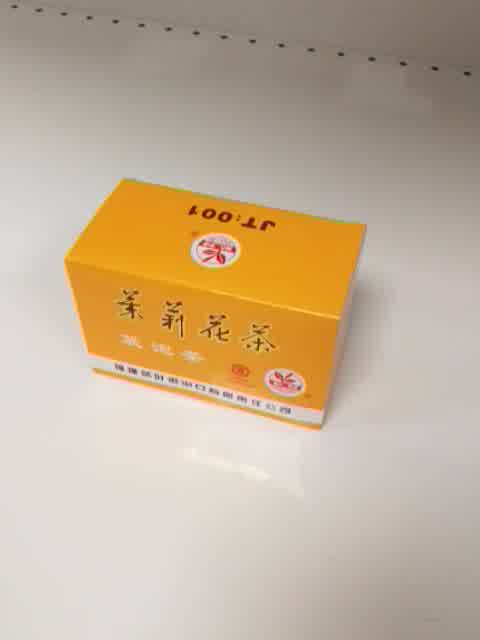jasminetea: (62, 175, 367, 432)
